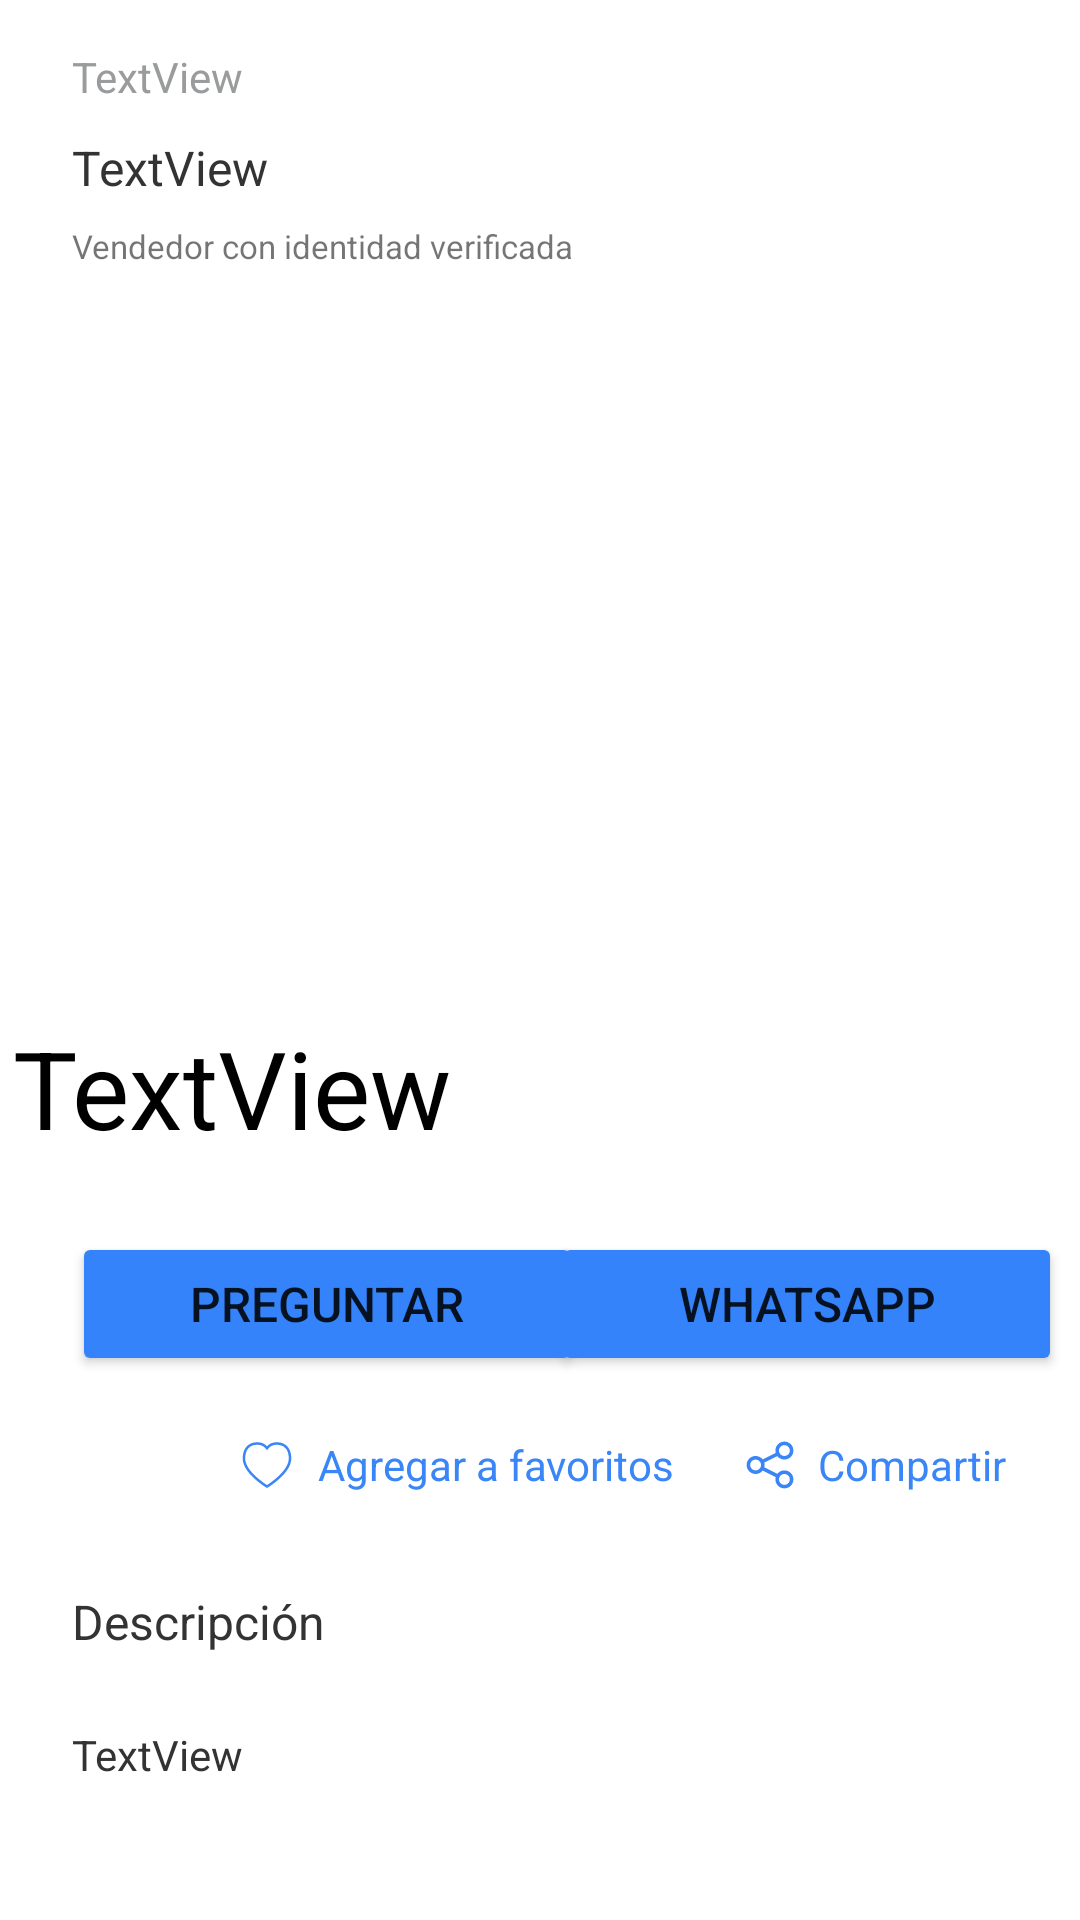

Screen size 1080w x 1920h. Icon name, then its box in pixels as (x1, y1, x2, y2):
empty heart: (242, 1442, 292, 1488)
share: (746, 1441, 794, 1489)
